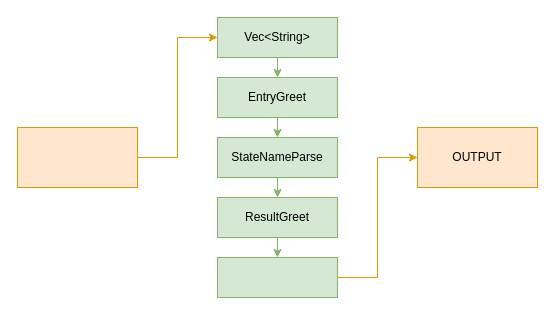
Image size: 555x323. Some labels were removed from this diagram. Here are the shapes that lost their labels. From the top down, the box of each, then its label:
(16, 126, 138, 188): INPUT
(216, 256, 338, 298): String
